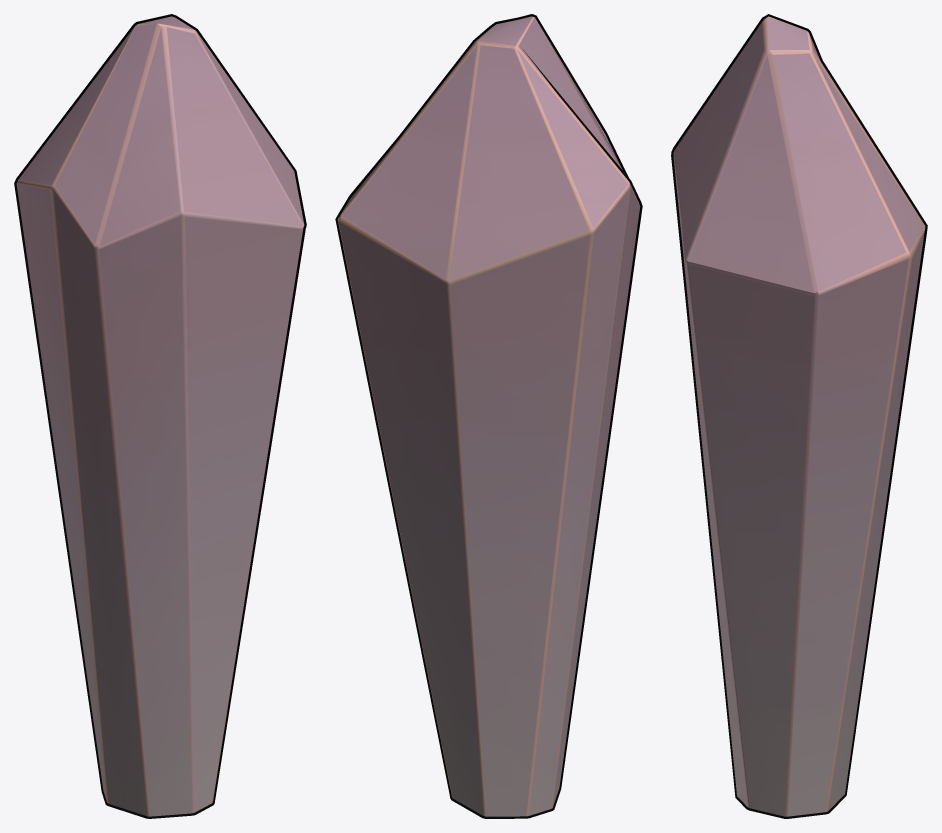
Rendered from Crystal_Small_02.glb.
The picture shows the model from 3 angles, left to right: view 1: azimuth 30°, elevation 25°; view 2: azimuth 150°, elevation 25°; view 3: azimuth 270°, elevation 25°; orthographic projection.
Visible parts, largest first — view 1: Crystal_Small_02; view 2: Crystal_Small_02; view 3: Crystal_Small_02.
Part boxes in pixels (box(x1,y1,x2,y2)): Crystal_Small_02: box(14, 14, 306, 818); Crystal_Small_02: box(335, 14, 642, 818); Crystal_Small_02: box(671, 14, 927, 818).
Bounding box in the file's own units: 1.13 × 3.2 × 0.9595.
Materials: 2 (1 with a texture image).
